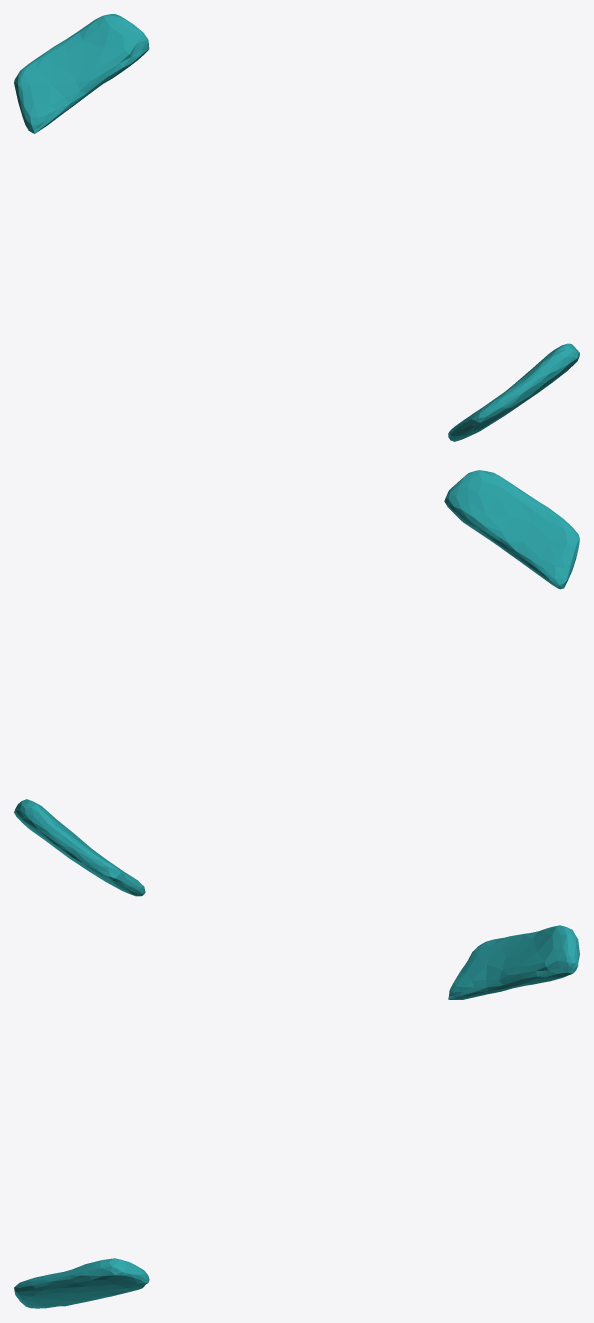
3 views of the same model, one above another, from view 1: azimuth 30°, elevation 25°; view 2: azimuth 150°, elevation 25°; view 3: azimuth 330°, elevation 25° (orthographic).
Parts seen in each view (by area): view 1: 74.obj; view 2: 74.obj; view 3: 74.obj.
Part boxes in pixels (x1=…): 74.obj: x1=14, y1=14, x2=579, y2=441; 74.obj: x1=14, y1=470, x2=579, y2=896; 74.obj: x1=14, y1=925, x2=579, y2=1308.
Size of the model in its own units: 1101 by 702 by 7195.
